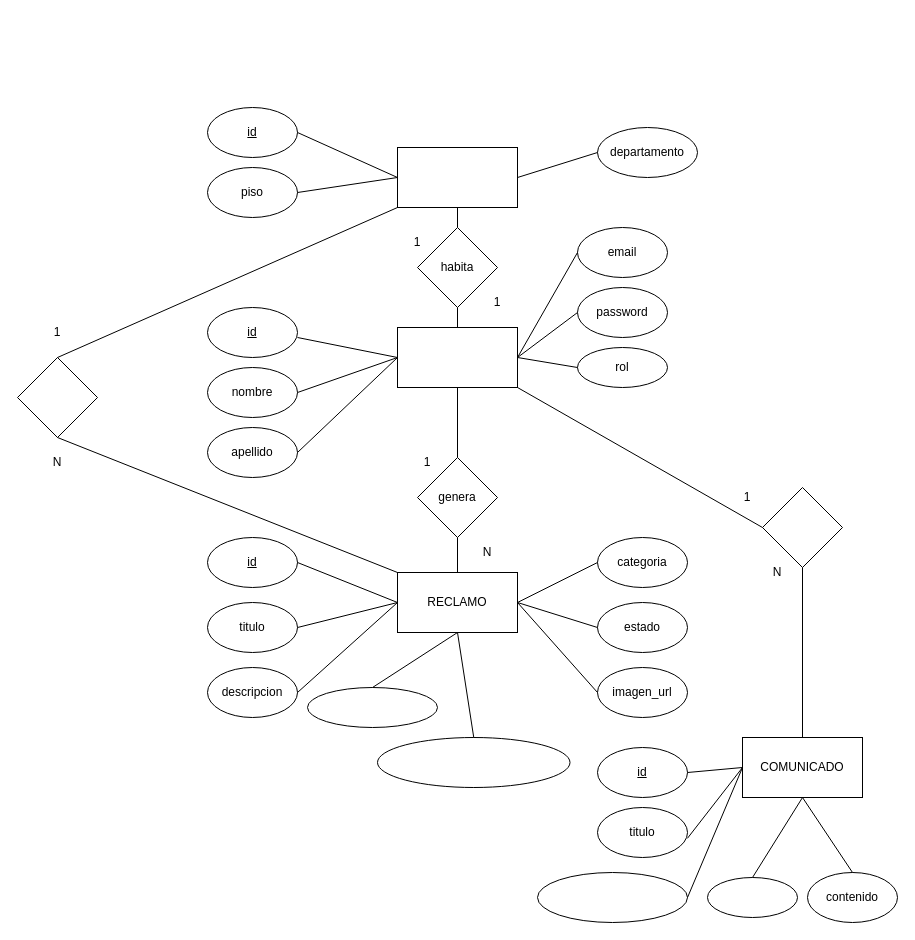
This 915x940 diagram has some shape labels left out. Each missing label, with the centre of its shape:
"es_urgente" belongs at point 752,897.
"fecha_actualizacion" belongs at point 473,762.
"fecha_creacion" belongs at point 372,707.
"fecha_publicacion" belongs at point 612,897.
"pertenece" belongs at point 57,397.
"publica" belongs at point 802,527.
"UNIDAD" belongs at point 457,177.
"USUARIO" belongs at point 457,357.
